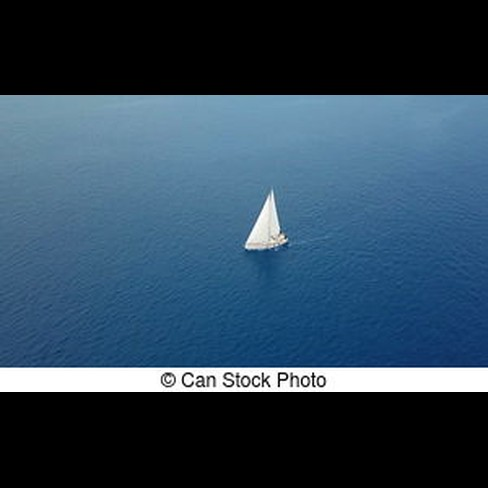boat: (237, 181, 295, 259)
